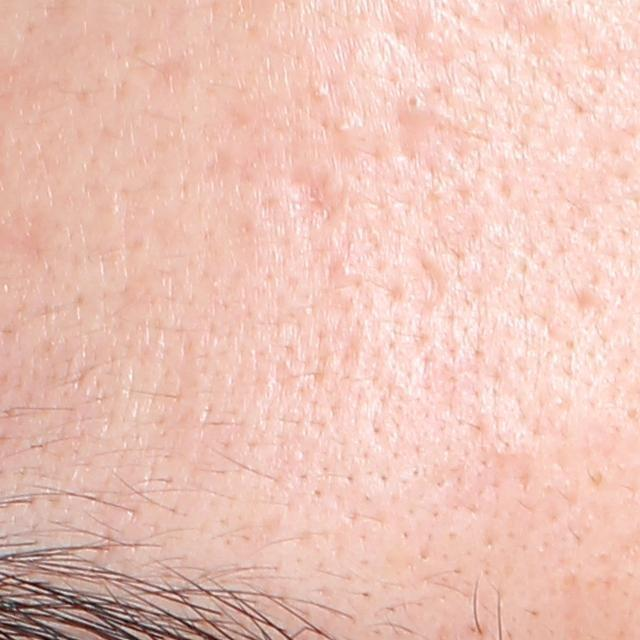atrophic_scar: (399, 240, 449, 314), (293, 171, 341, 235)
comedo: (331, 110, 364, 138), (401, 88, 428, 117), (307, 77, 335, 104)
